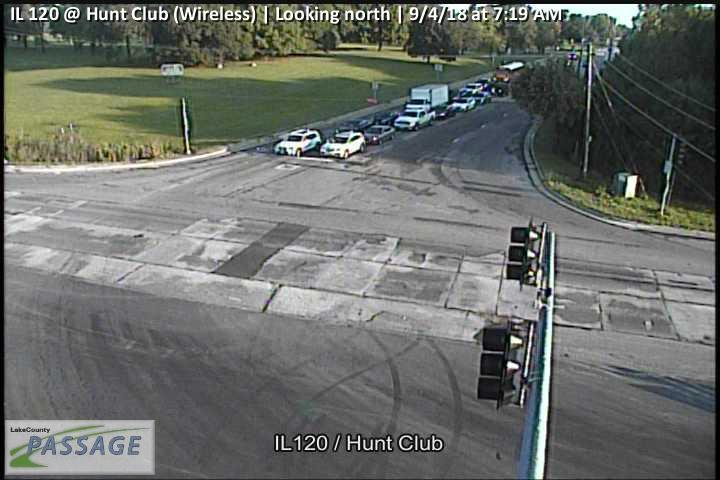SUV: (273, 126, 323, 158), (319, 130, 367, 160)
Sedan: (362, 123, 396, 146), (433, 107, 456, 120)
Truck: (406, 82, 450, 113), (393, 106, 436, 132), (449, 95, 476, 113), (459, 81, 483, 94)
